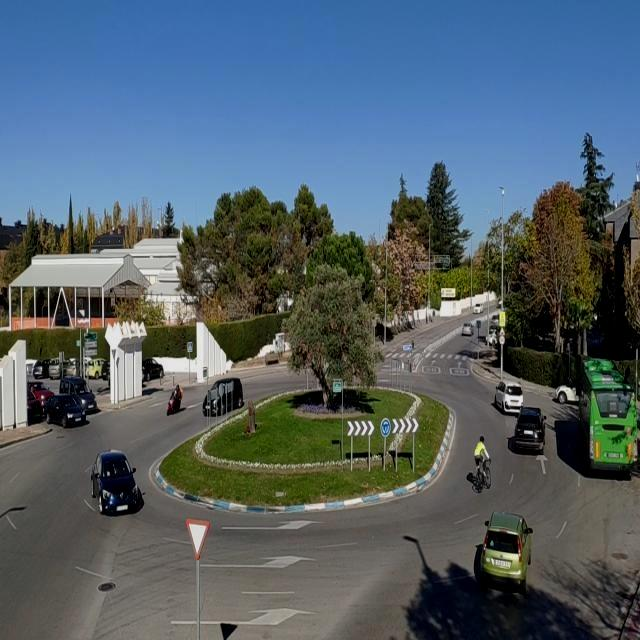Bus: (580, 356, 638, 480)
Car: (478, 511, 534, 594), (89, 450, 142, 515), (512, 407, 547, 453), (202, 378, 244, 416), (59, 376, 98, 414), (44, 394, 87, 428), (495, 380, 524, 413), (26, 383, 55, 407), (554, 382, 580, 405), (26, 389, 44, 420), (47, 358, 72, 380), (142, 358, 164, 382), (64, 359, 90, 379), (32, 359, 55, 380), (86, 358, 106, 379), (486, 329, 500, 346), (101, 359, 111, 380), (461, 323, 473, 336), (473, 303, 483, 314), (491, 314, 500, 326)
Cycle: (473, 456, 492, 493), (166, 392, 183, 416)
